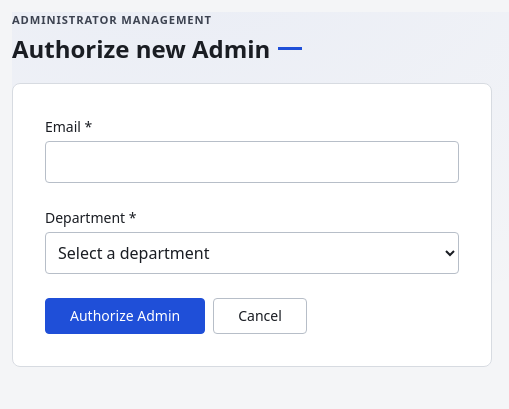
AdminAuthorizePage › department selection (manual E2E regression) › still rejects submission with no department selected
In the field labelled "Email *": (252, 162) x1=45 y1=141 x2=459 y2=183, type "new@example.gov"
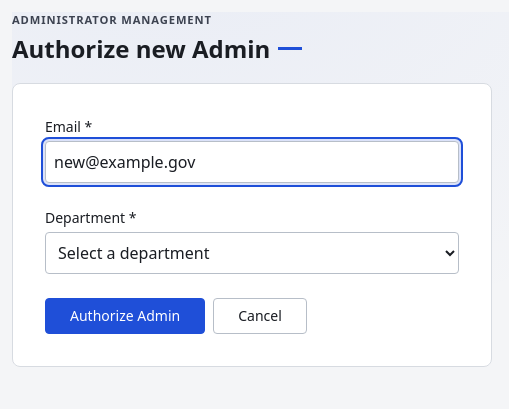
Click the button "Authorize Admin": (125, 316) x1=45 y1=298 x2=205 y2=334
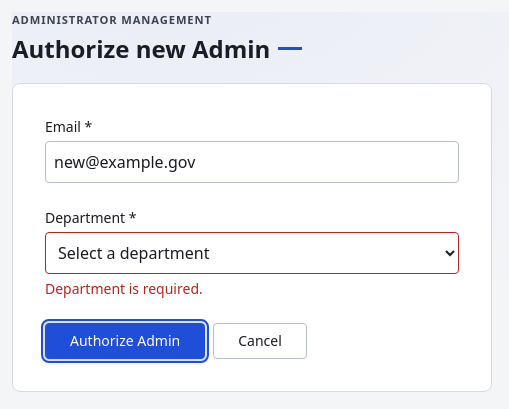
Expected: the text "Department is required." is shown, x1=45 y1=279 x2=203 y2=298
